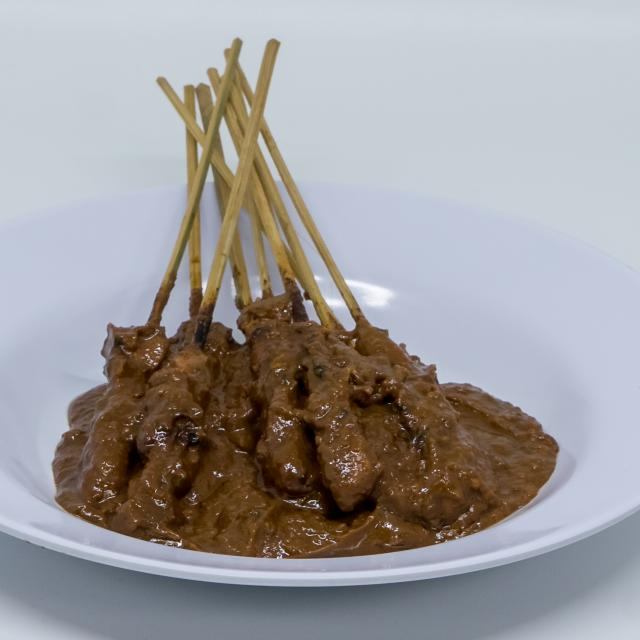Sate-Ayam: (54, 290, 483, 550)
